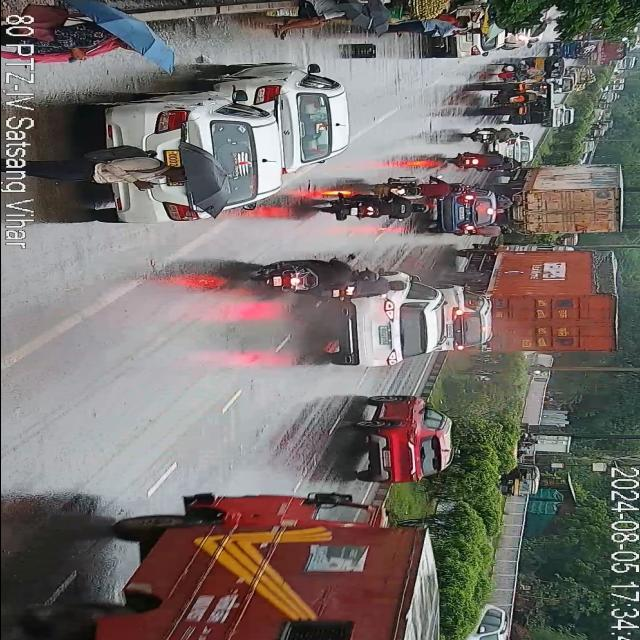2-wheelers: (252, 264, 378, 294), (308, 198, 431, 220), (374, 178, 468, 196), (449, 148, 514, 172), (466, 128, 522, 144)
auto: (498, 452, 539, 500), (548, 41, 588, 62)
car: (94, 92, 276, 220), (202, 66, 346, 170), (319, 268, 439, 372), (356, 398, 458, 488), (432, 184, 512, 237), (458, 606, 516, 640), (544, 106, 574, 130)
pedestrian: (42, 148, 220, 212), (44, 0, 168, 72), (284, 0, 396, 33), (389, 12, 472, 40)
truck: (86, 495, 441, 640), (442, 249, 622, 364), (485, 159, 627, 242)
